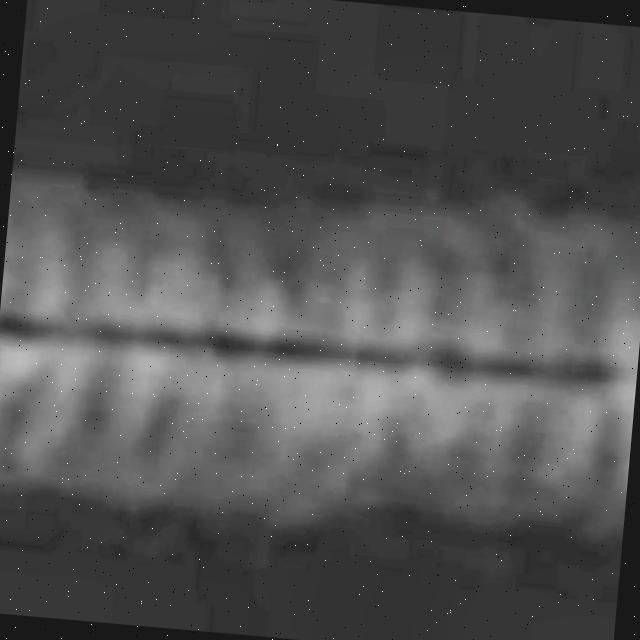LoP-LoF: (0, 292, 625, 426)
